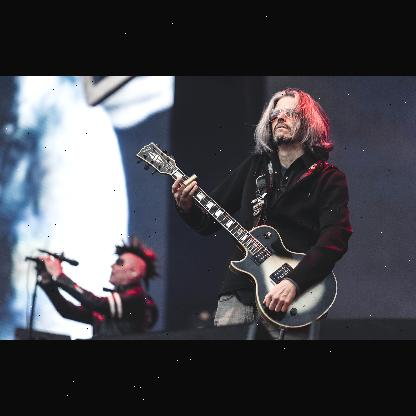guitar: (134, 142, 338, 330)
